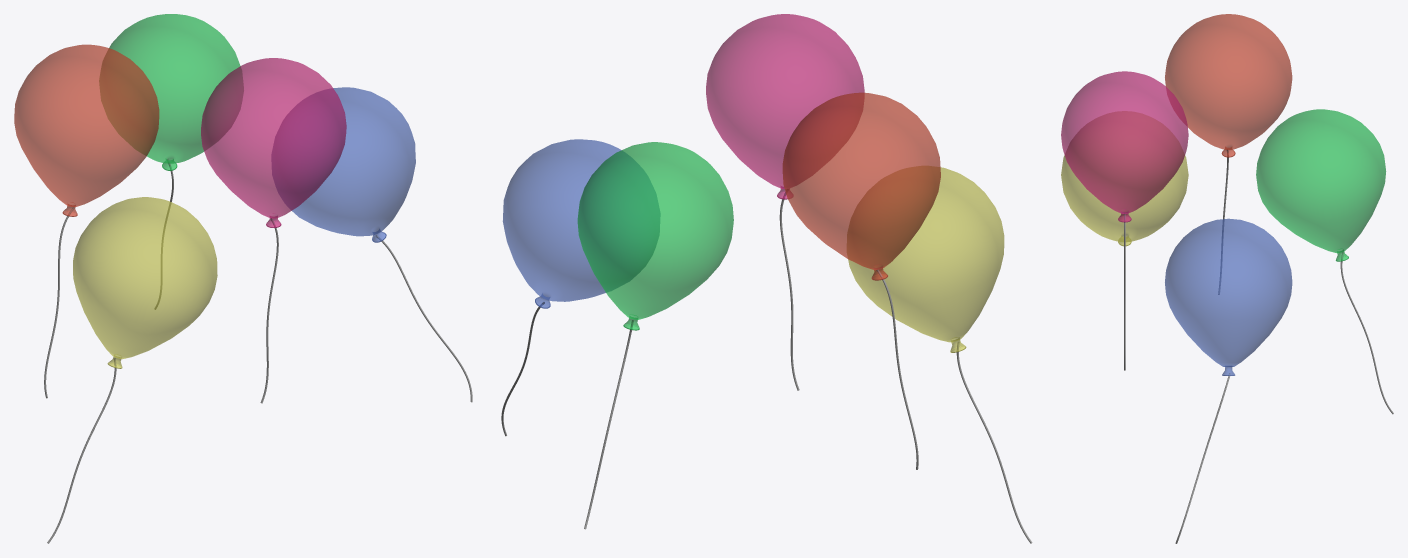
The model's file is Balloons.fbx.
3 views of the same model, side by side, from view 1: azimuth 30°, elevation 25°; view 2: azimuth 150°, elevation 25°; view 3: azimuth 270°, elevation 25° (orthographic). The views are drawn at different scales.
Parts seen in each view (by area): view 1: Sphere.004, Sphere.002, Sphere, Sphere.001, Sphere.003; view 2: Sphere.002, Sphere.003, Sphere.004, Sphere, Sphere.001; view 3: Sphere.003, Sphere.001, Sphere, Sphere.002, Sphere.004, NurbsPath.001, NurbsPath.003.
Part boxes in pixels (bbox=[...]): Sphere.004: bbox=[73, 197, 217, 368]; Sphere.002: bbox=[14, 44, 159, 216]; Sphere: bbox=[201, 58, 346, 227]; Sphere.001: bbox=[272, 87, 415, 242]; Sphere.003: bbox=[99, 14, 243, 170]; Sphere.002: bbox=[782, 92, 940, 280]; Sphere.003: bbox=[577, 142, 733, 330]; Sphere.004: bbox=[847, 166, 1004, 352]; Sphere: bbox=[706, 14, 864, 199]; Sphere.001: bbox=[502, 139, 659, 308]; Sphere.003: bbox=[1256, 109, 1386, 261]; Sphere.001: bbox=[1165, 218, 1292, 375]; Sphere: bbox=[1061, 71, 1188, 222]; Sphere.002: bbox=[1165, 14, 1292, 157]; Sphere.004: bbox=[1061, 111, 1188, 246]; NurbsPath.001: bbox=[1175, 373, 1230, 543]; NurbsPath.003: bbox=[1340, 252, 1393, 414].
Bounding box in the file's own units: 731 × 654 × 522.
